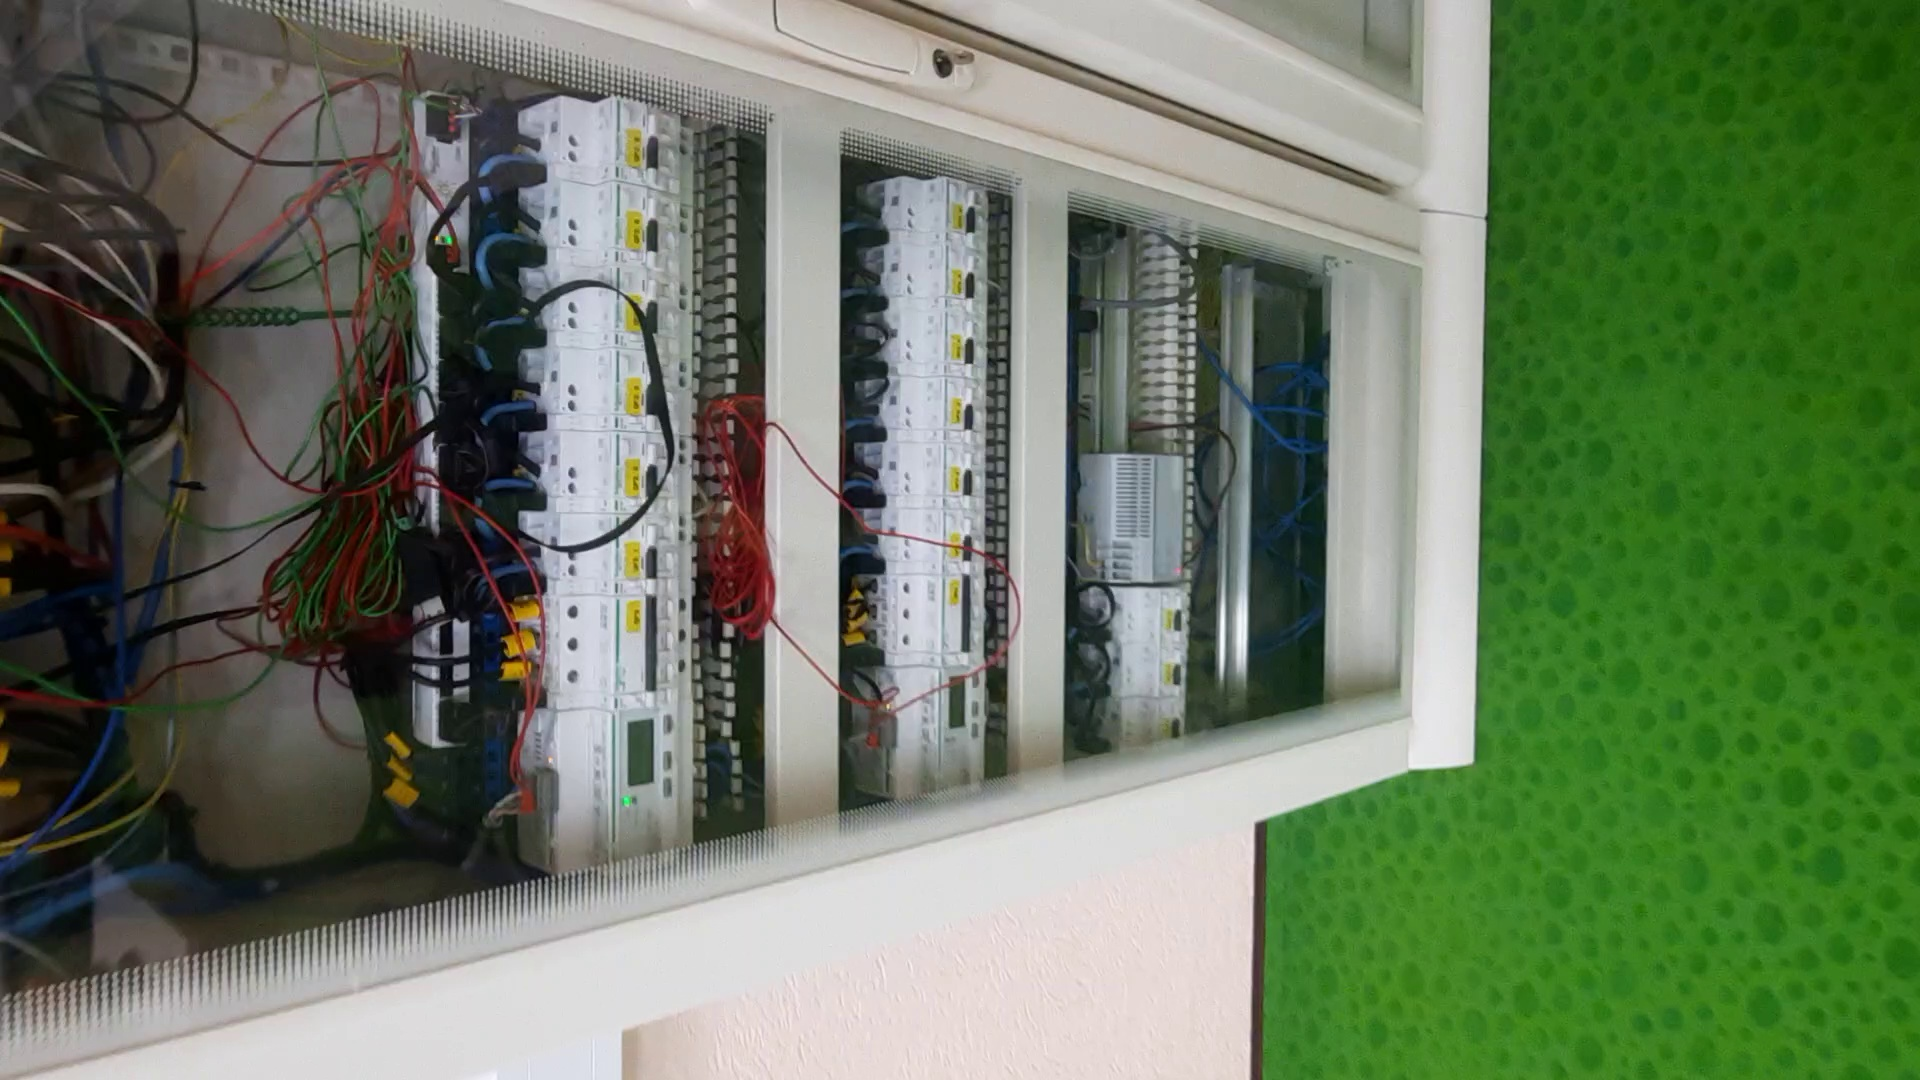stand1: (3, 1, 1501, 990)
